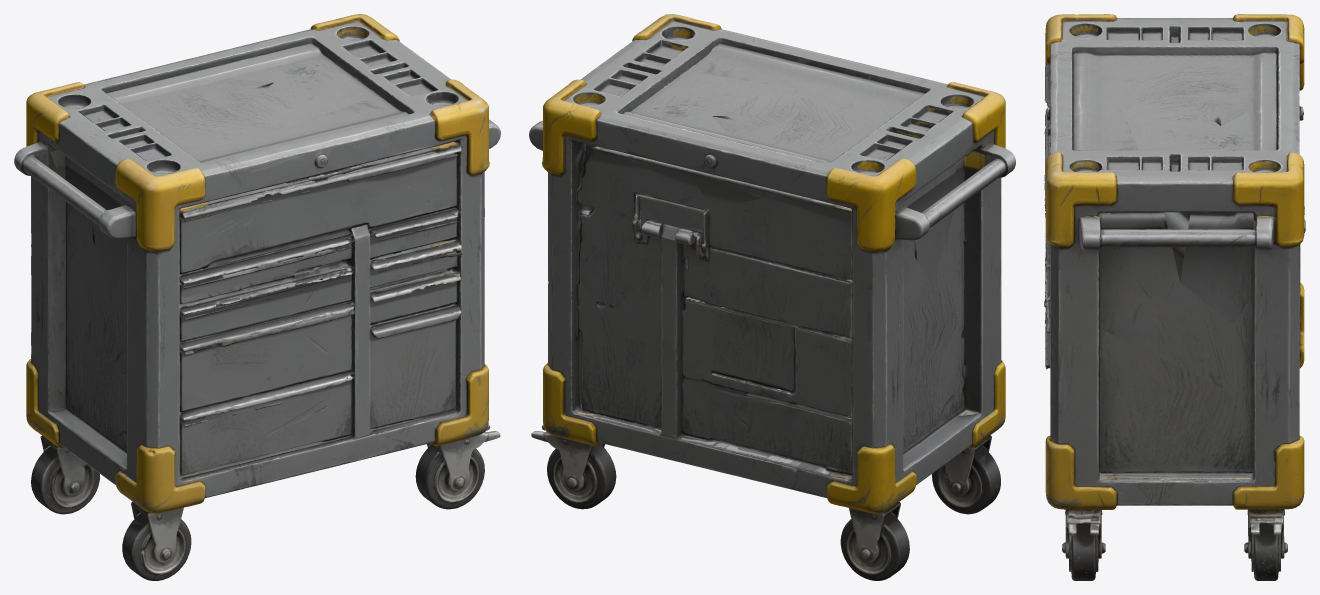
Rendered from Props_MaintenanceToolCart.fbx.
3 views of the same model, side by side, from view 1: azimuth 30°, elevation 25°; view 2: azimuth 150°, elevation 25°; view 3: azimuth 270°, elevation 25° (orthographic).
Visible parts, largest first — view 1: Props_MaintenanceToolCart; view 2: Props_MaintenanceToolCart; view 3: Props_MaintenanceToolCart.
Boxes of the visible parts, left/top/right/bottom form: Props_MaintenanceToolCart: left=14, top=14, right=500, bottom=580; Props_MaintenanceToolCart: left=529, top=14, right=1015, bottom=580; Props_MaintenanceToolCart: left=1044, top=14, right=1305, bottom=580.
Bounding box in the file's own units: 99.99 × 99.7 × 57.33.
